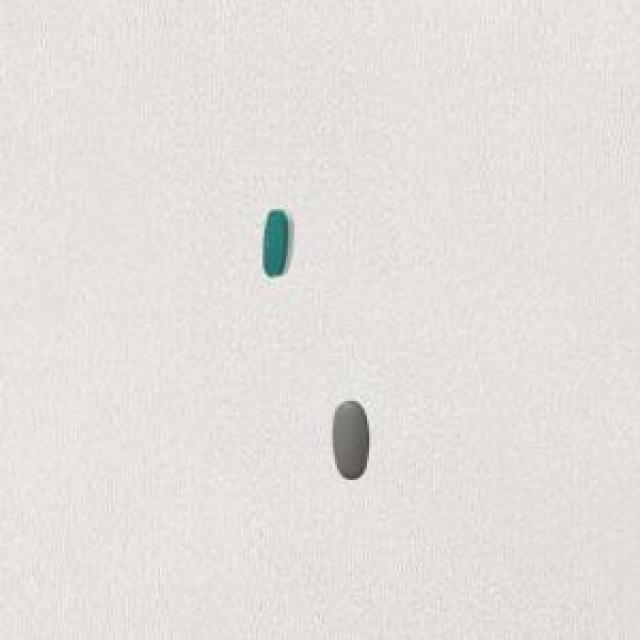Neozep: (321, 392, 379, 490), (252, 201, 298, 288)
